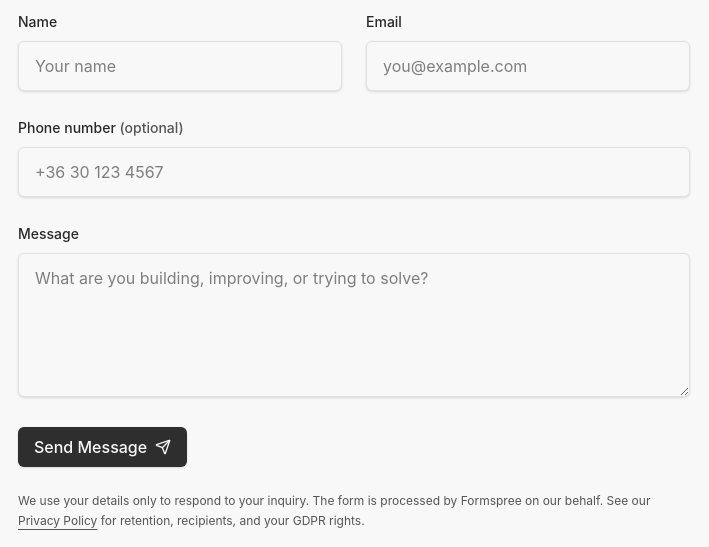
ContactForm › shows an error message and tracks a server_error when the API responds with a failure
The width and height of the screenshot is (709, 547).
Type "Ada Lovelace" into the field labelled "Name" at (180, 66), box [18,41,342,91]
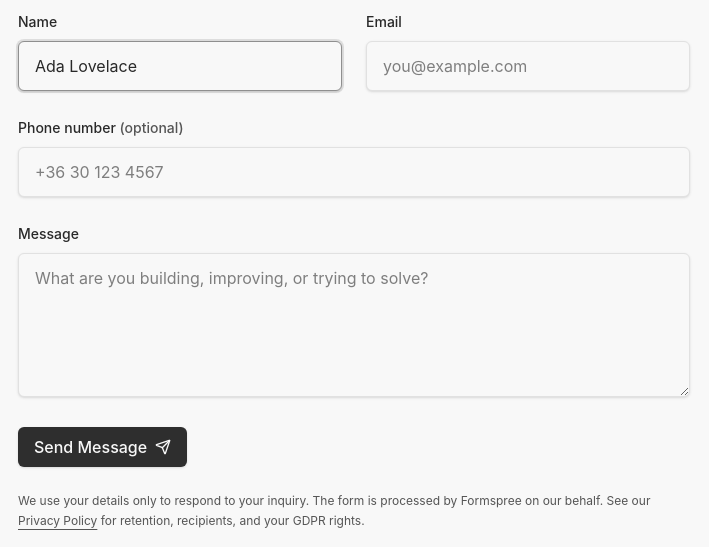
Type "ada@example.com" into the field labelled "Email" at (528, 66), box [366,41,690,91]
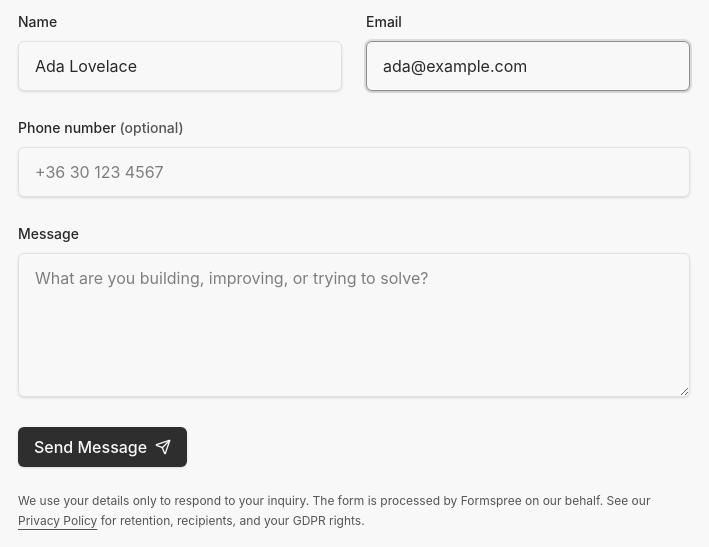
Type "We need a React audit." into the text box labelled "Message" at (354, 325), box [18,253,690,397]
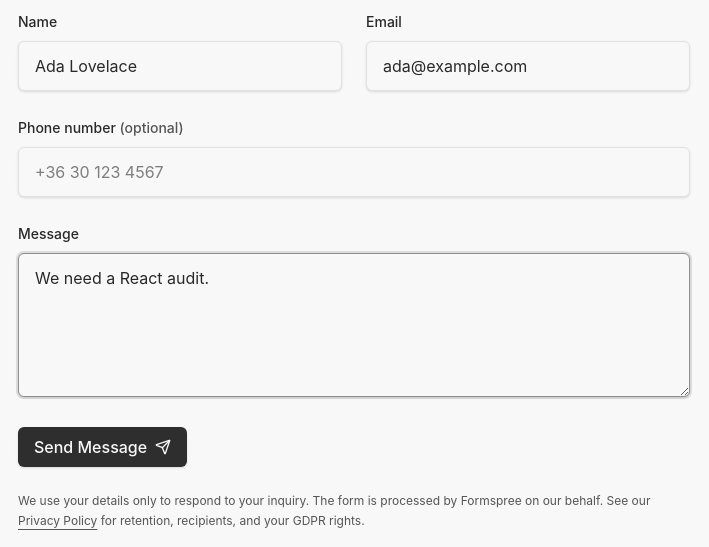
Click the button "Send Message" at (103, 447), box [18,427,187,467]
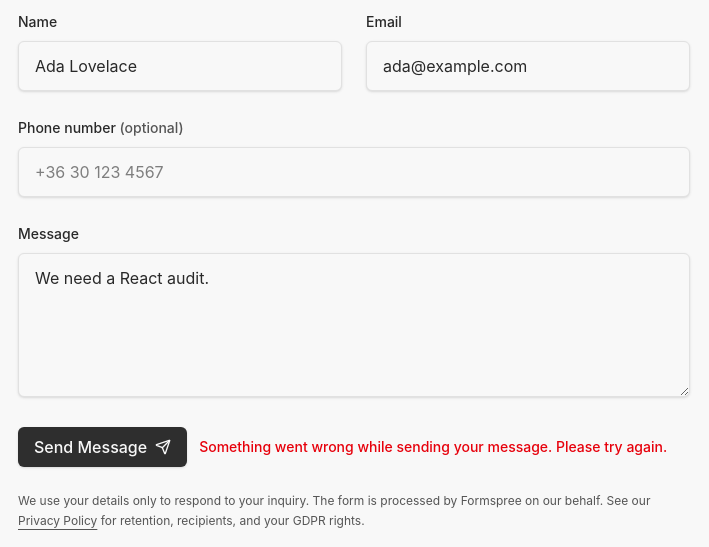
Check: the text "Something went wrong while sending your message" is shown, box [199,438,667,455]
